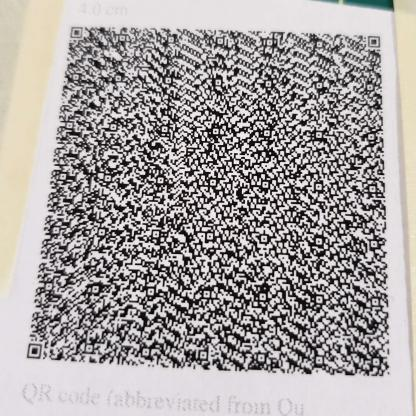qr: (19, 19, 397, 387)
